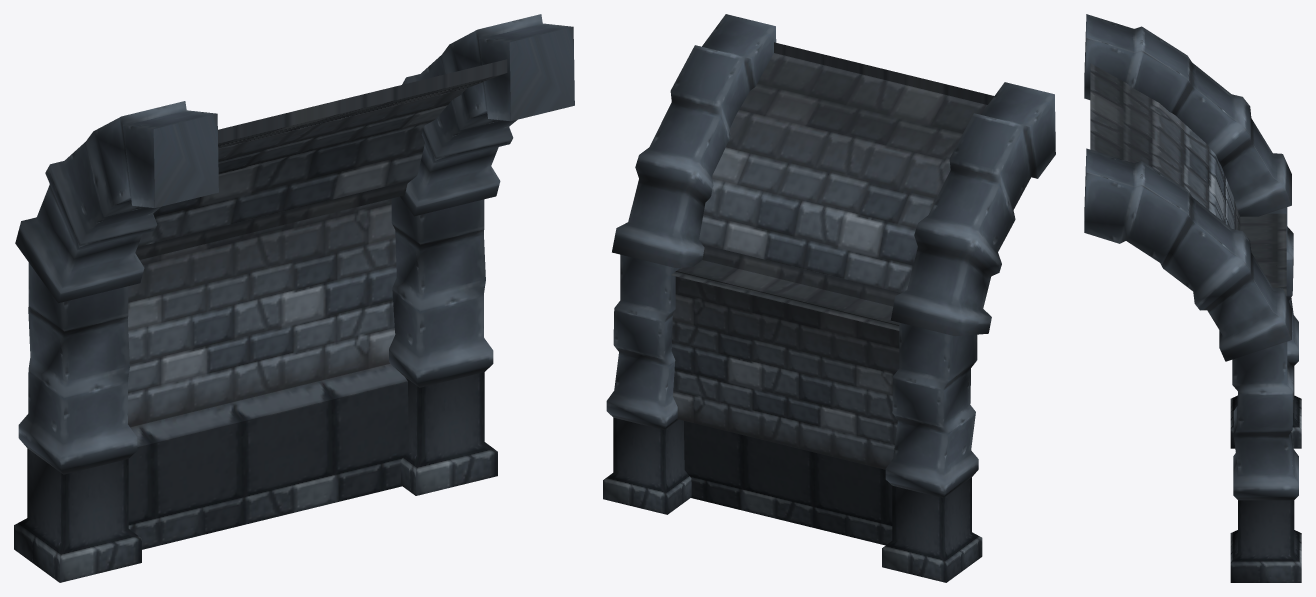
Rendered from wall dungeon3.FBX.
3 views of the same model, side by side, from view 1: azimuth 30°, elevation 25°; view 2: azimuth 150°, elevation 25°; view 3: azimuth 270°, elevation 25° (orthographic). The views are drawn at different scales.
Visible parts, largest first — view 1: wall dungeon3; view 2: wall dungeon3; view 3: wall dungeon3.
Boxes of the visible parts, bbox=[...] form: wall dungeon3: bbox=[14, 14, 574, 582]; wall dungeon3: bbox=[603, 14, 1055, 582]; wall dungeon3: bbox=[1084, 14, 1301, 582].
Bounding box in the file's own units: 616 × 695 × 338.
